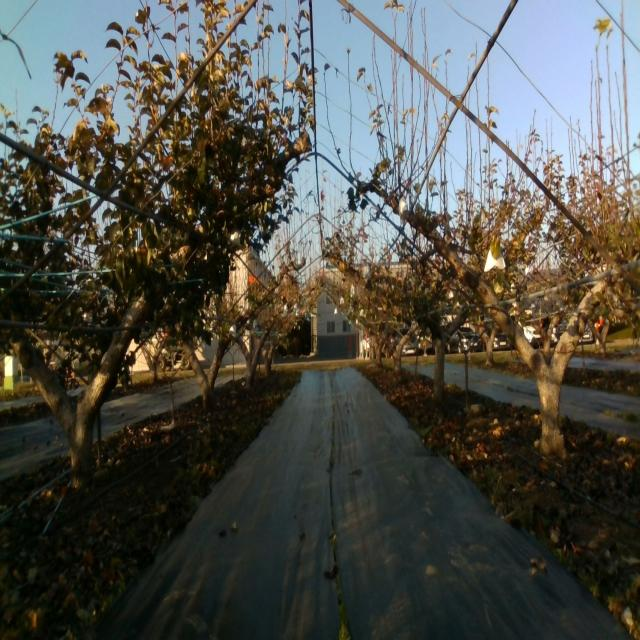pearbags: (484, 248, 506, 272), (228, 224, 242, 246), (398, 196, 408, 226)
